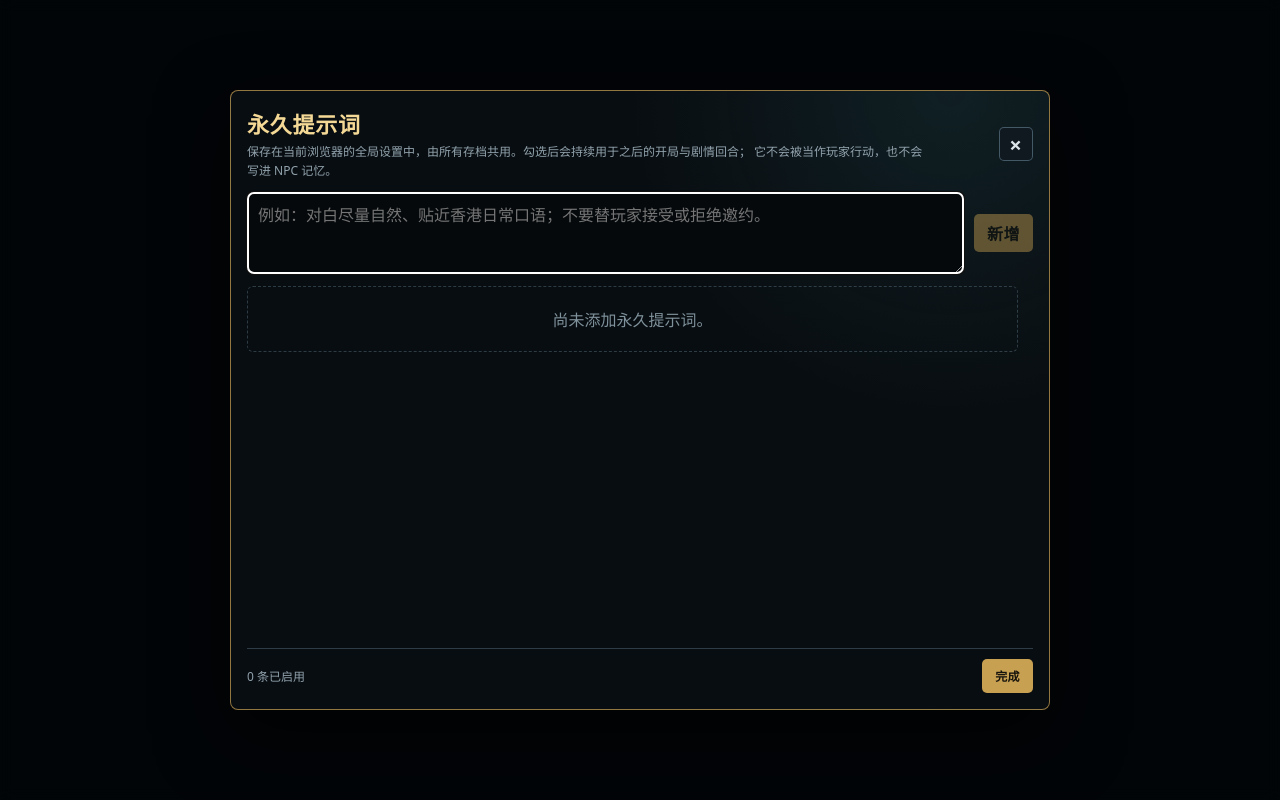
Test: PersistentPromptManager › adds a new prompt as enabled and renders it as a list entry
The width and height of the screenshot is (1280, 800).
Step 1. Type "不要替玩家接受邀约。" into the text box named "新增永久提示词" → {"x": 605, "y": 233}, box [247, 192, 964, 274]
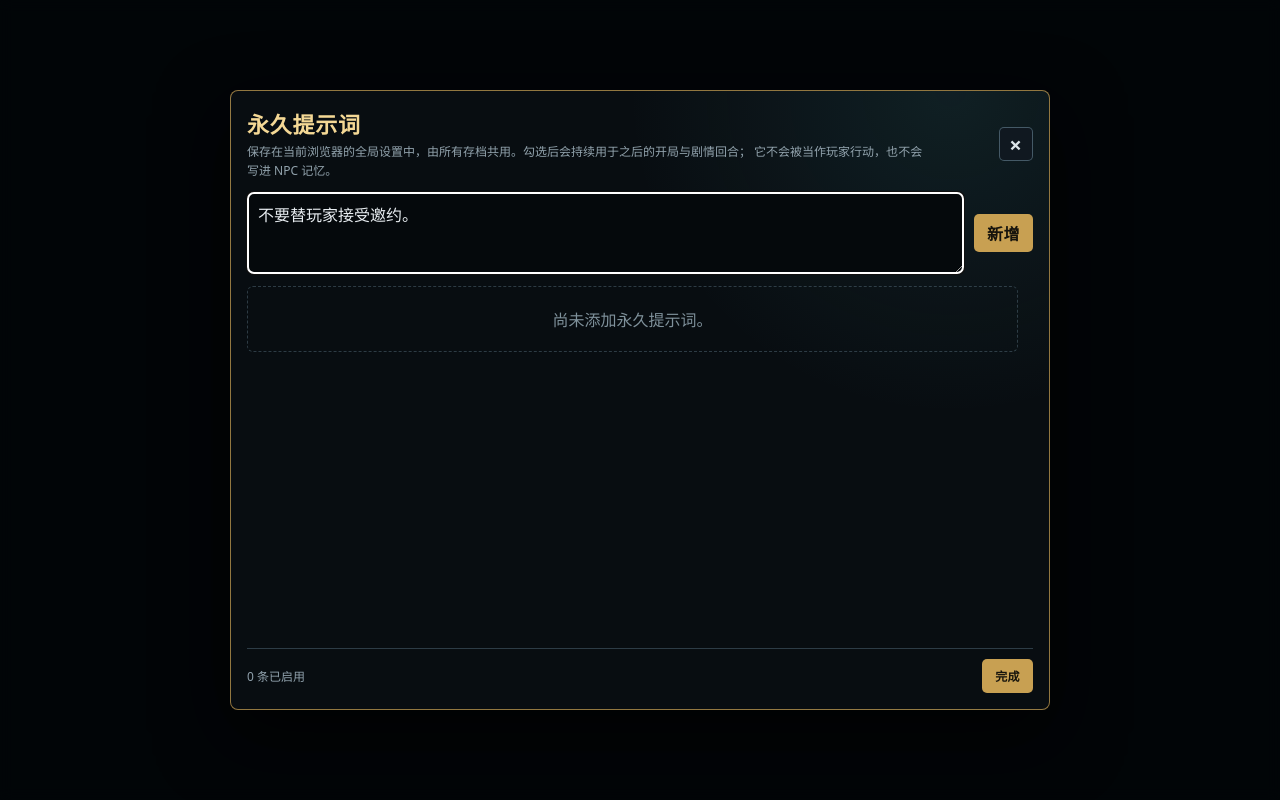
Step 2. Click the button "新增" → {"x": 1003, "y": 233}, box [974, 214, 1033, 252]
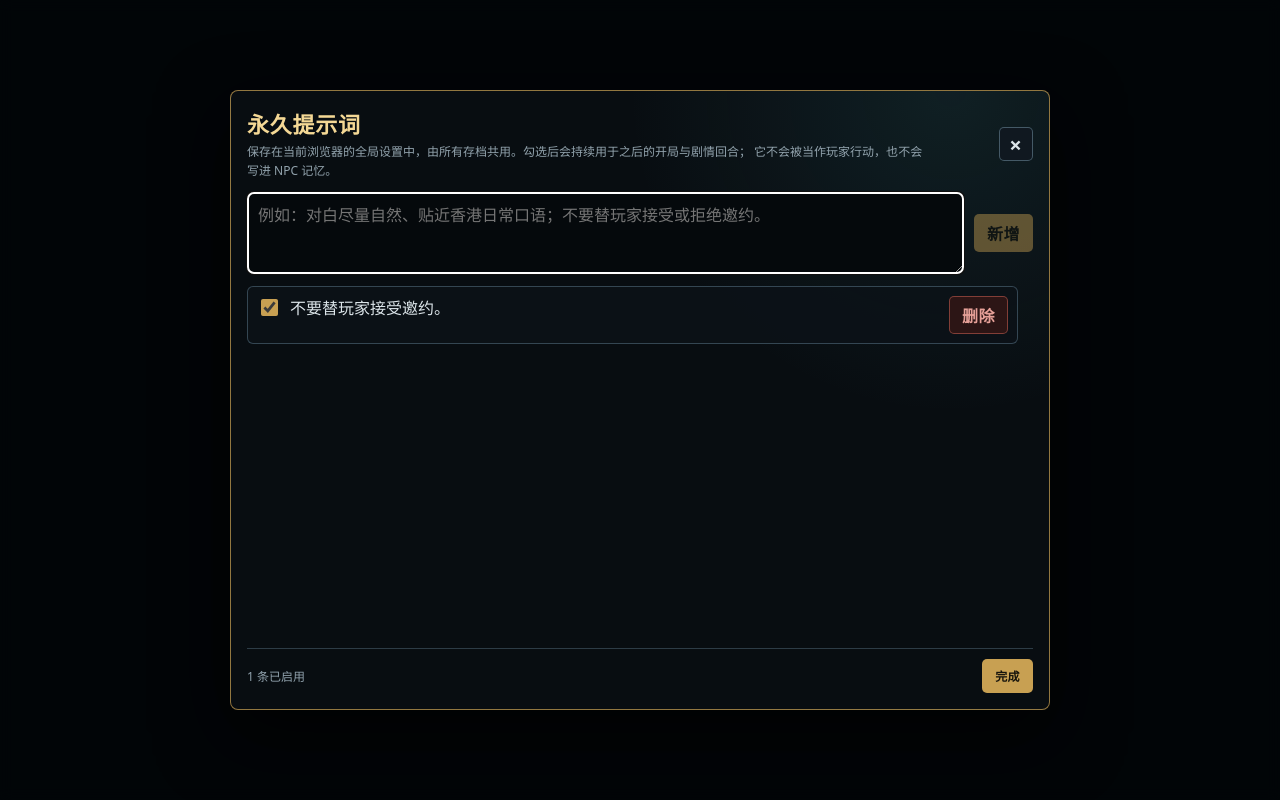
Expected: the text "不要替玩家接受邀约。" is shown, [290, 296, 450, 321]
Expected: the checkbox named "启用永久提示词：不要替玩家接受邀约。" is checked, [261, 299, 278, 316]
